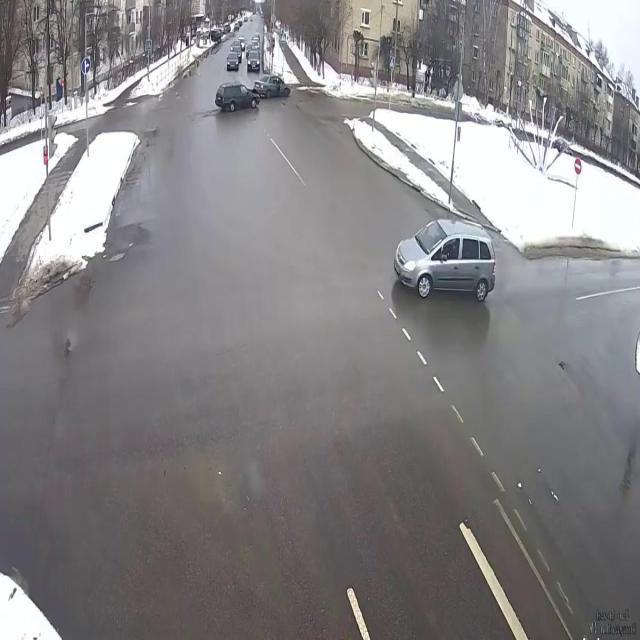accident: (213, 70, 291, 118)
